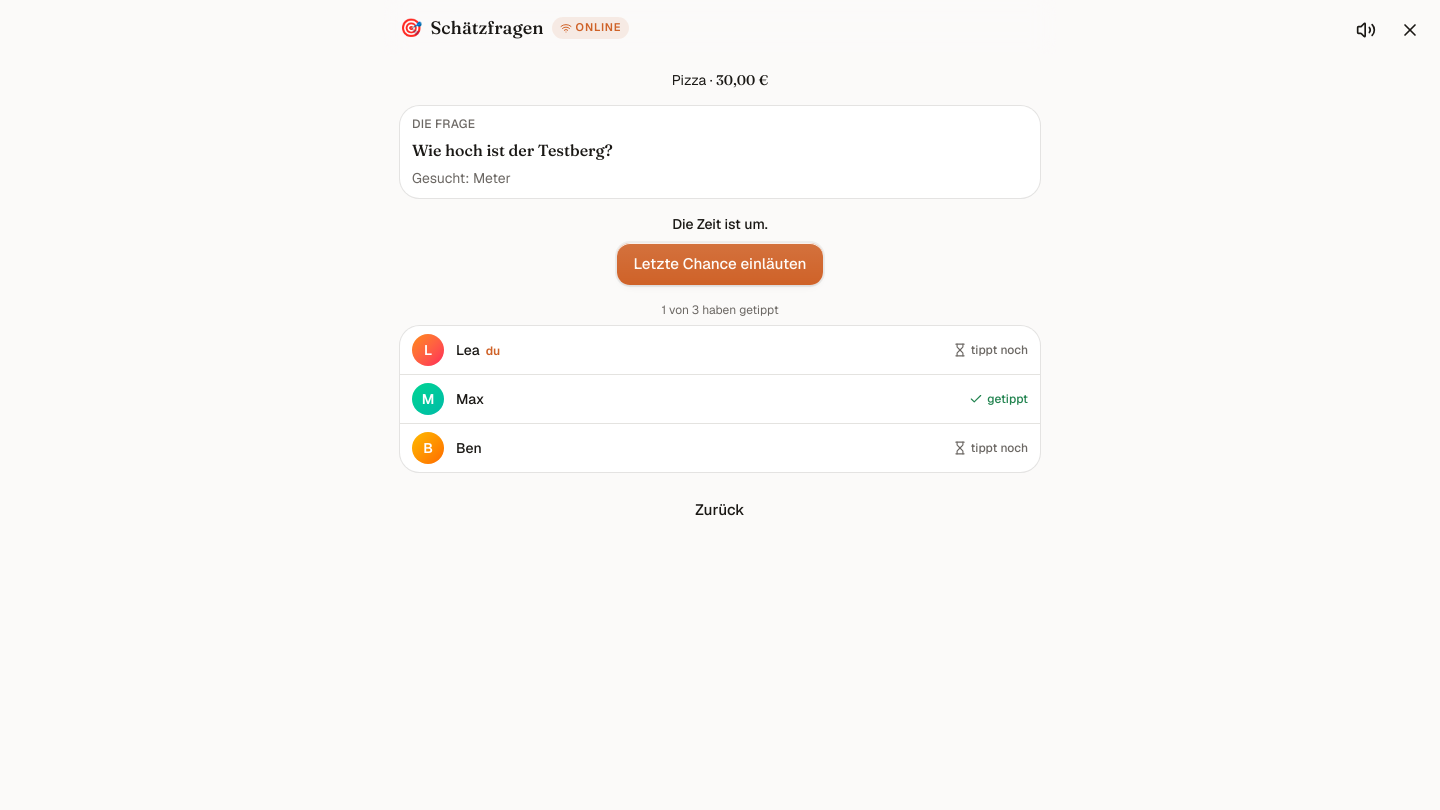
Scenario: EstimateRoundPageClient › the state table (G.7), one test per row › 11: after the deadline the close button names who is absent and what it costs
The width and height of the screenshot is (1440, 810).
Expected: the text "Die Zeit ist um." is shown, top-left (672, 214), bottom-right (768, 234)
Click the button "Letzte Chance einläuten": (720, 264) top-left (616, 242), bottom-right (824, 286)
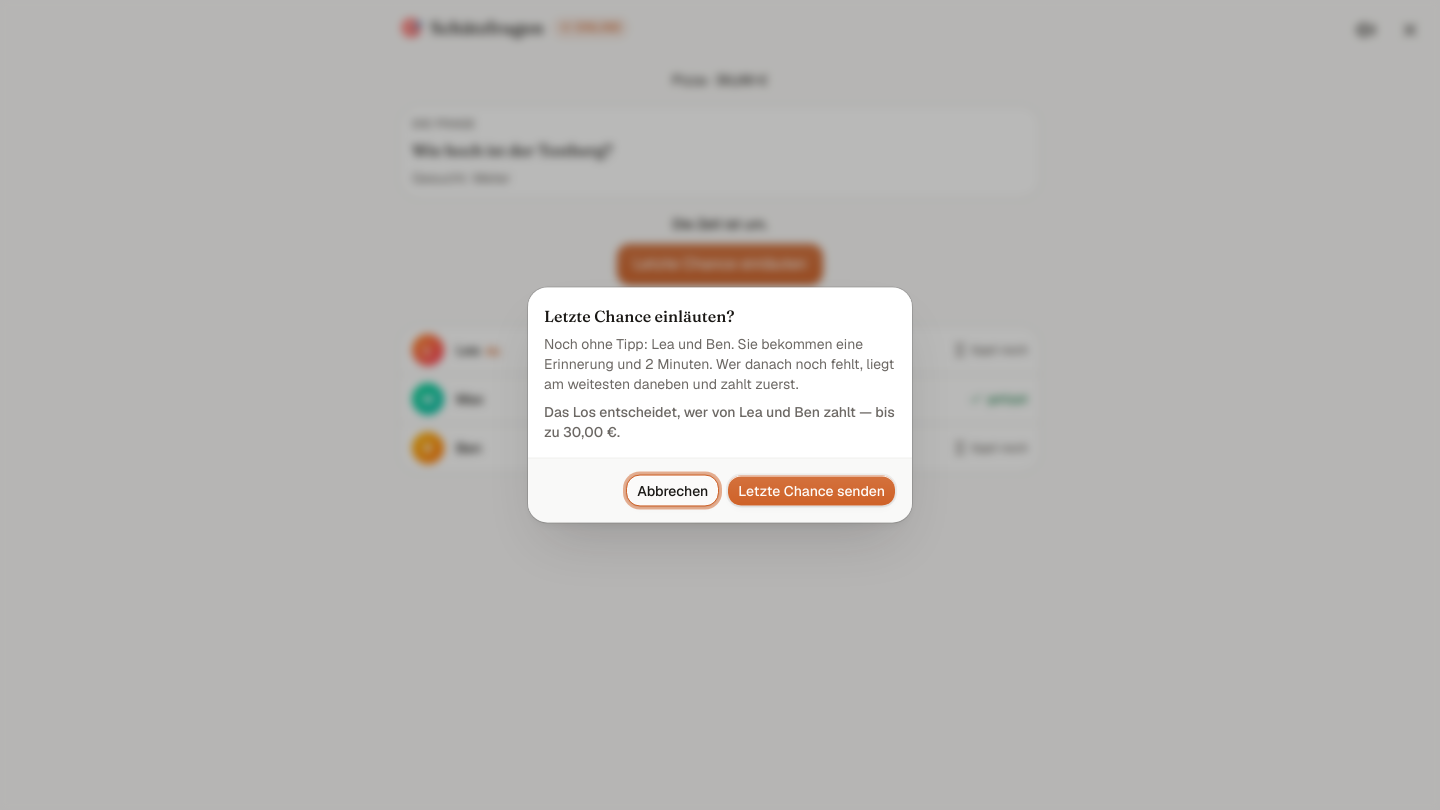
Now the heading "Letzte Chance einläuten?" is shown, box top-left (544, 304), bottom-right (735, 328)
Now the dialog shows "Noch ohne Tipp: Lea und Ben.", box top-left (544, 334), bottom-right (894, 392)
Now the dialog shows "2 Minuten", box top-left (544, 334), bottom-right (894, 392)
